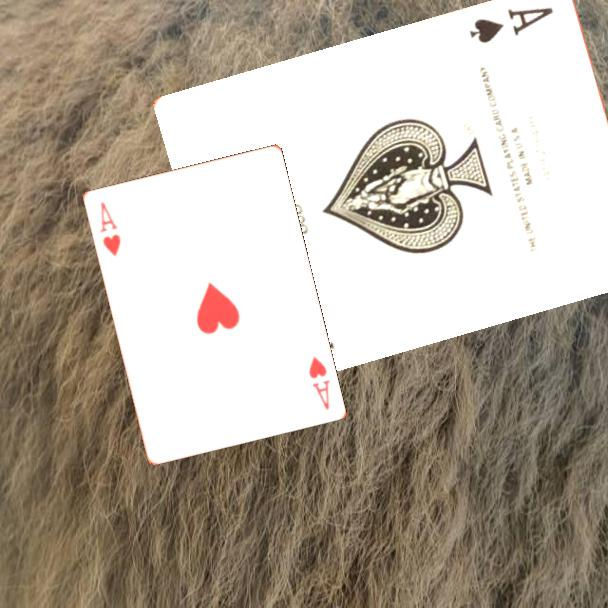h01: (96, 198, 123, 259), (305, 352, 332, 413)
s01: (465, 4, 556, 47)
